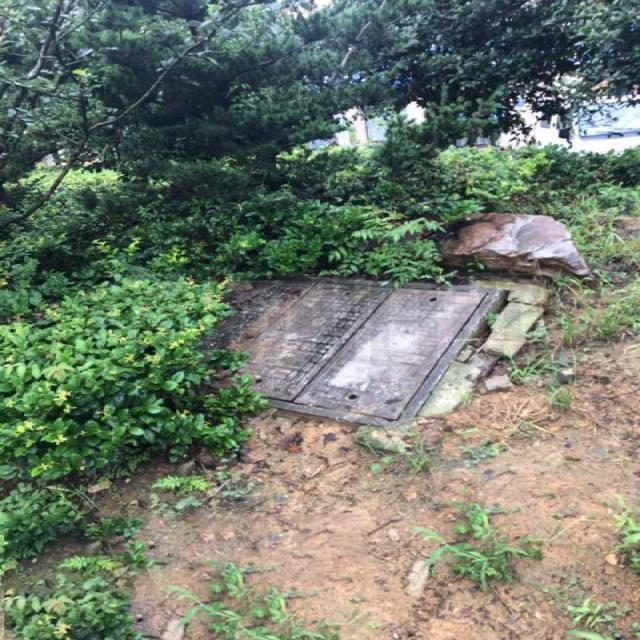Good: (207, 270, 502, 425)
